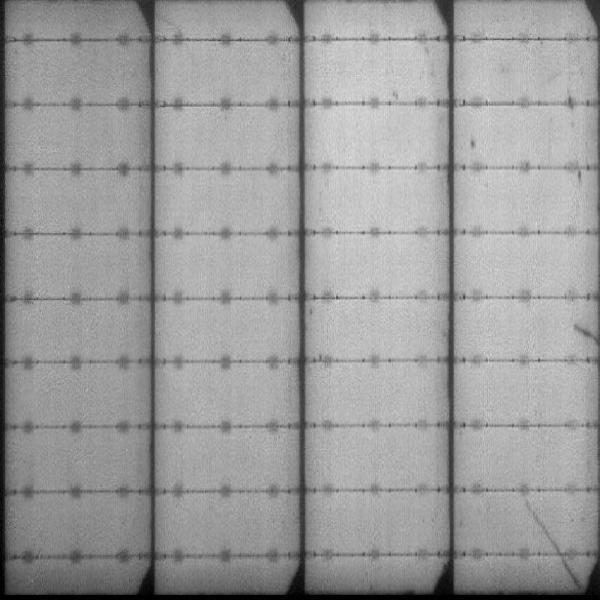scratch: (525, 498, 579, 583), (574, 324, 596, 347)
